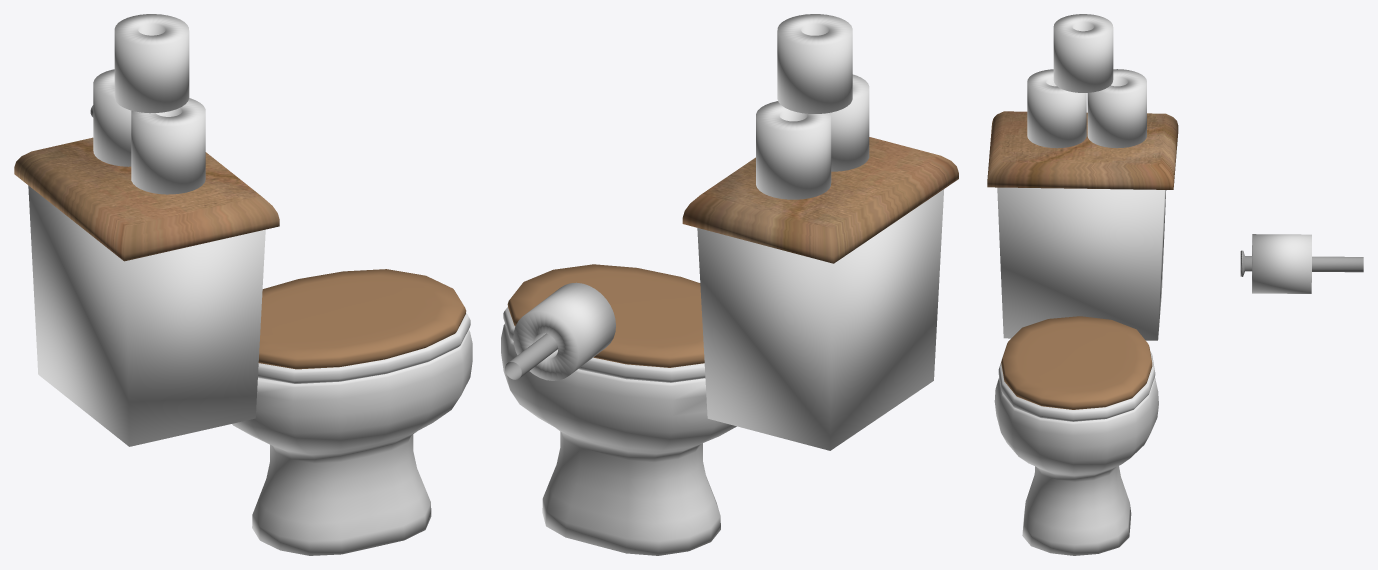
The model's file is vater.fbx.
3 renders of one model, left to right at view 1: azimuth 30°, elevation 25°; view 2: azimuth 150°, elevation 25°; view 3: azimuth 270°, elevation 25°, orthographic. The views are drawn at different scales.
Visible parts, largest first — view 1: Circle.001, Cylinder.008; view 2: Circle.001, Cylinder.008, Cylinder.009; view 3: Circle.001, Cylinder.008, Cylinder.009.
Part boxes in pixels (<box>): Circle.001: <box>14,137,472,555</box>; Cylinder.008: <box>93,14,205,194</box>; Circle.001: <box>501,137,958,555</box>; Cylinder.008: <box>513,14,869,380</box>; Cylinder.009: <box>505,333,557,379</box>; Circle.001: <box>987,111,1178,555</box>; Cylinder.008: <box>1027,14,1311,293</box>; Cylinder.009: <box>1240,250,1363,276</box>.
Size of the model in its own units: 571 by 751 by 602.
